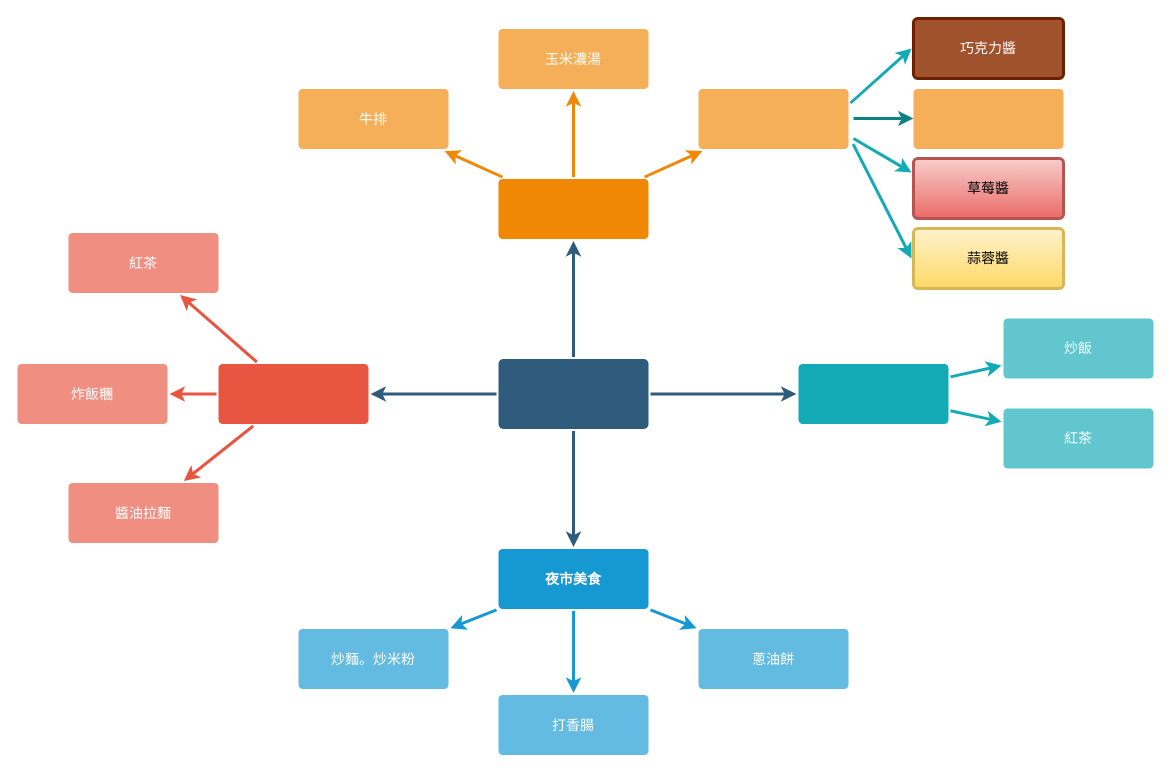
Some shapes in this 1170 by 772 pixel diagram are drawn without their labels. The shapes that lost their labels are listed below. From the top down, each one's box as (x1, y1, x2, y2) in pixels, then its label:
(698, 88, 848, 148): 果醬吐司
(913, 88, 1063, 148): 花生醬
(498, 178, 648, 238): 奔頂牛排
(218, 364, 368, 424): 豚將拉麵
(498, 358, 648, 428): 主頁
(798, 364, 948, 424): 九龍城
